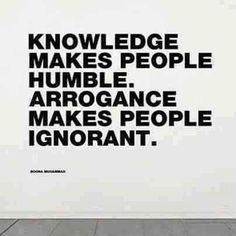latin: (26, 30, 213, 89), (26, 89, 213, 148)
